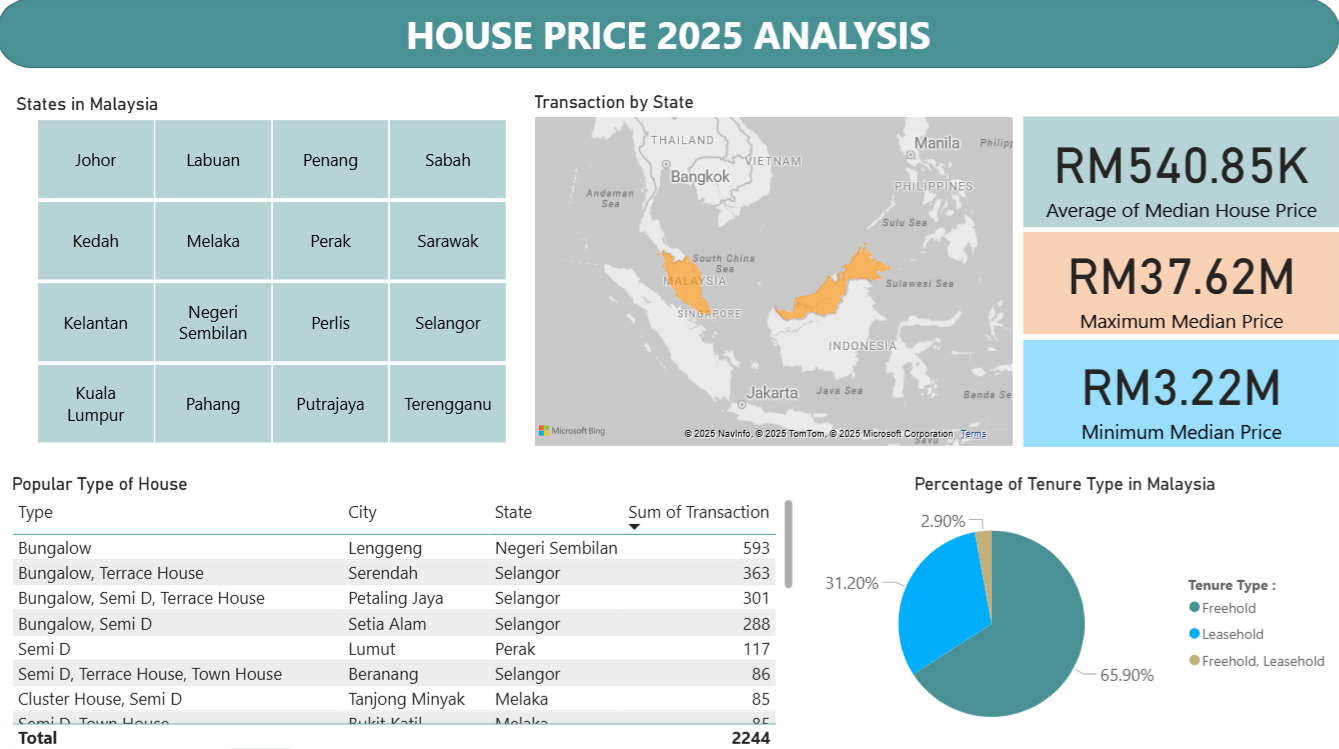

What the dashboard file says about the page in this screenshot:
{"tool":"powerbi","page":{"name":"HOUSE PRICE 2025","canvas":[1280,720],"ordinal":0},"visuals":[{"type":"actionButton","box":[0,0,100,40],"z":0},{"type":"filledMap","title":"Transaction by State","fields":{"Category":["avg_median_price_states.state"]},"box":[506.8,89.1,466.3,343.3],"z":1000},{"type":"card","fields":{"Values":["Avg(avg_median_price_states.avg_median_price)"]},"box":[978,113.3,301.2,105.2],"z":2000},{"type":"card","fields":{"Values":["Sum(min_max_price_states.max_median_price)"]},"box":[978,223.5,301.2,97.2],"z":3000},{"type":"card","fields":{"Values":["Sum(min_max_price_states.min_median_price)"]},"box":[978,325.5,301.2,102],"z":4000},{"type":"pieChart","title":"Percentage of Tenure Type in Malaysia","fields":{"Category":["tenure_percentage.tenure_type"],"Y":["Sum(tenure_percentage.tenure_percentage)"]},"box":[755,453.3,525,266.7],"z":5000},{"type":"tableEx","title":"Popular Type of House","fields":{"Values":["transaction_rank.type","transaction_rank.city","transaction_rank.state","Sum(transaction_rank.transaction)"]},"box":[9.7,452.8,754.6,267.2],"z":6000},{"type":"shape","box":[0,0,1280.7,66.7],"z":7000},{"type":"slicer","title":"States in Malaysia","fields":{"Values":["avg_median_price_states.state"]},"box":[0,76.7,513.3,355],"z":8000}]}

Visuals, with their boxes in screenshot pixels (x1, y1, x2, y2), scaled from the page's 1280x720 canvas onto the 1339x749 screenshot:
actionButton: (0,0,105,42)
"Transaction by State" filledMap: (530,93,1018,450)
card - Avg(avg_median_price_states.avg_median_price): (1023,118,1338,227)
card - Sum(min_max_price_states.max_median_price): (1023,233,1338,334)
card - Sum(min_max_price_states.min_median_price): (1023,339,1338,445)
"Percentage of Tenure Type in Malaysia" pieChart: (790,472,1338,748)
"Popular Type of House" tableEx: (10,471,800,748)
shape: (0,0,1338,69)
"States in Malaysia" slicer: (0,80,537,449)
